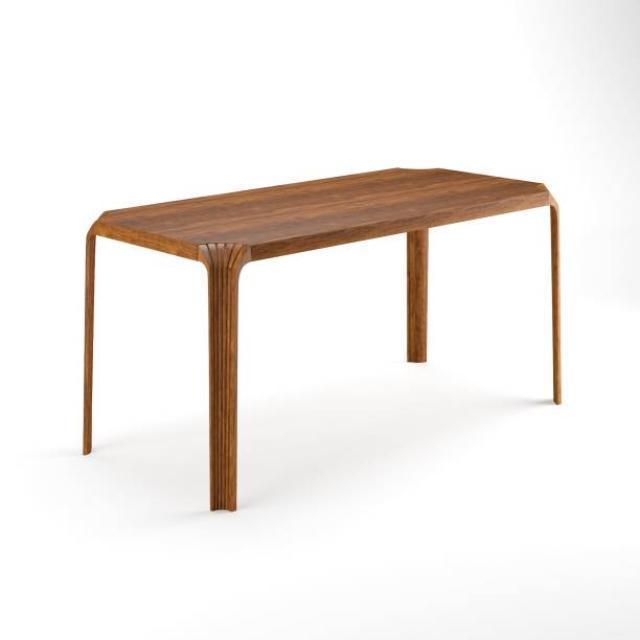table: (80, 165, 562, 512)
